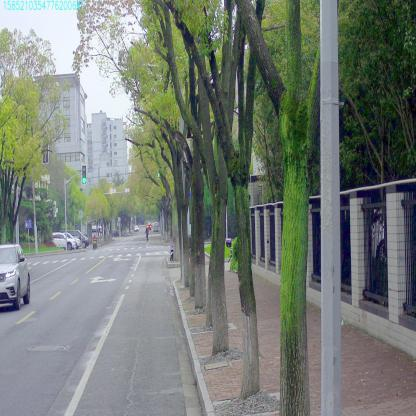traffic-light: (82, 165, 86, 184), (157, 162, 160, 178)
